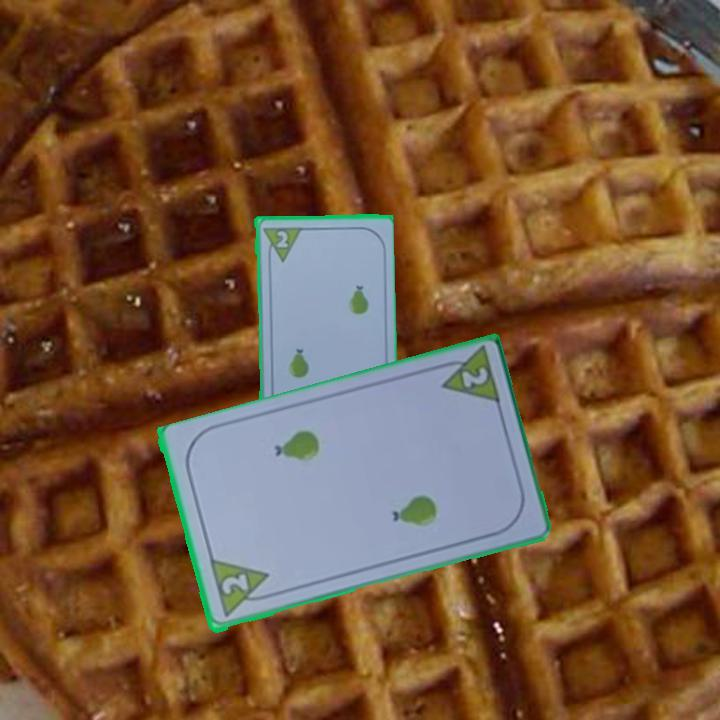2p: (431, 345, 504, 409), (205, 557, 276, 621), (273, 227, 291, 250)
